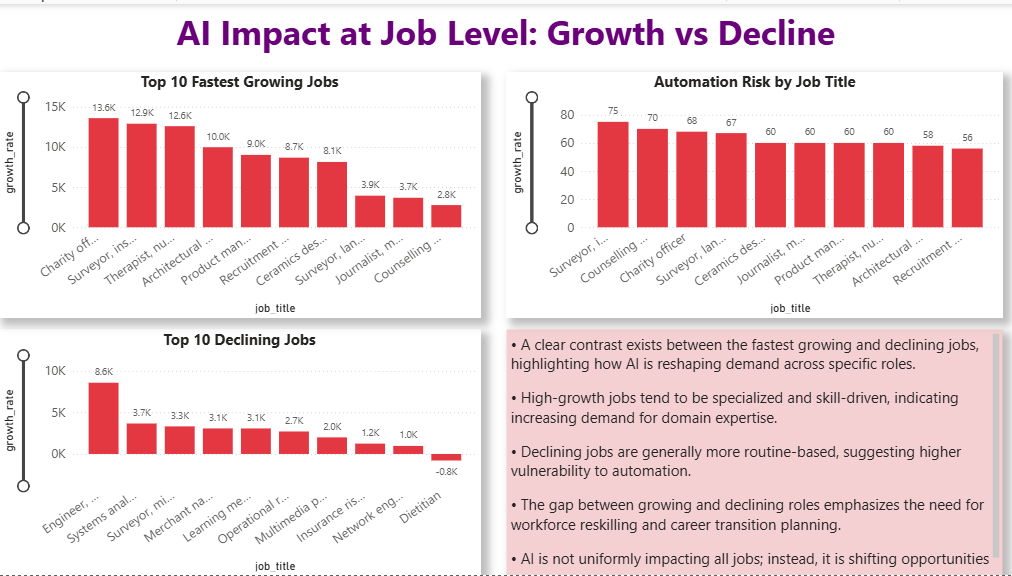

Layout of this report page (visuals, bound fields, positions):
{"tool":"powerbi","page":{"name":"Page 2","canvas":[1280,720],"ordinal":1},"visuals":[{"type":"columnChart","title":"Automation Risk by Job Title","fields":{"Category":["cleaned_ai_jobs.job_title"],"Y":["CountNonNull(cleaned_ai_jobs.ai_impact_level)"]},"box":[640.6,85,625.5,309.9],"z":1000},{"type":"columnChart","title":"Top 10 Fastest Growing Jobs","fields":{"Category":["cleaned_ai_jobs.job_title"],"Y":["Sum(cleaned_ai_jobs.growth_rate)"]},"box":[0,85,608.5,309.9],"z":2000},{"type":"columnChart","title":"Top 10 Declining Jobs","fields":{"Category":["cleaned_ai_jobs.job_title"],"Y":["Sum(cleaned_ai_jobs.growth_rate)"]},"box":[0,410.1,608.5,309.9],"z":2001},{"type":"textbox","box":[0,0,1279.4,68],"z":2002},{"type":"textbox","box":[640.6,410.1,625.5,309.9],"z":2003}]}

Visuals, with their boxes in screenshot pixels (x1, y1, x2, y2), scaled from the page's 1280x720 canvas onto the 1012x576 screenshot:
"Automation Risk by Job Title" columnChart: {"left": 506, "top": 68, "right": 1001, "bottom": 316}
"Top 10 Fastest Growing Jobs" columnChart: {"left": 0, "top": 68, "right": 481, "bottom": 316}
"Top 10 Declining Jobs" columnChart: {"left": 0, "top": 328, "right": 481, "bottom": 575}
textbox: {"left": 0, "top": 0, "right": 1011, "bottom": 54}
textbox: {"left": 506, "top": 328, "right": 1001, "bottom": 575}
